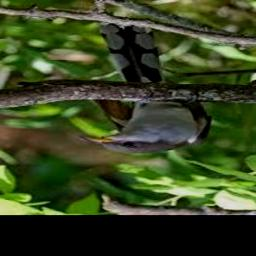Cuckoo: (79, 25, 210, 155)
